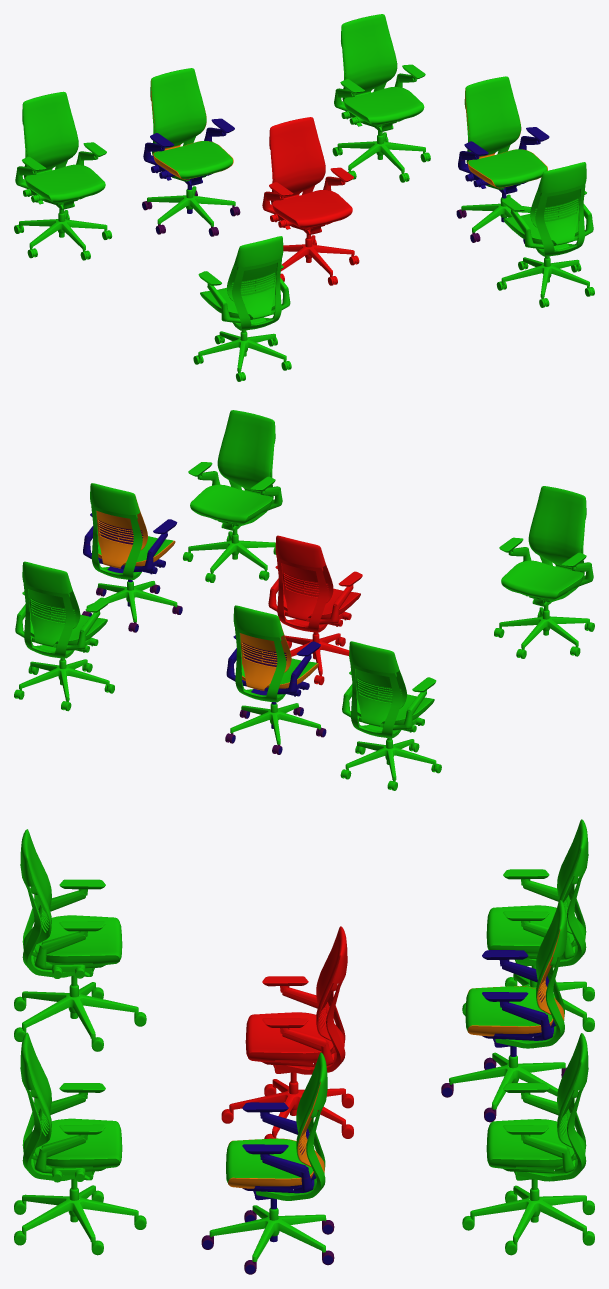
File: steelcase_gestures.glb
3 views of the same model, one above another, from view 1: azimuth 30°, elevation 25°; view 2: azimuth 150°, elevation 25°; view 3: azimuth 270°, elevation 25° (orthographic). The views are drawn at different scales.
Visible parts, largest first — view 1: steelcase_gesture, steelcase_gesture.005, steelcase_gesture.001, steelcase_gesture.004, steelcase_gesture.006, steelcase_gesture.003, steelcase_gesture.002; view 2: steelcase_gesture.003, steelcase_gesture.002, steelcase_gesture.005, steelcase_gesture, steelcase_gesture.001, steelcase_gesture.006, steelcase_gesture.004; view 3: steelcase_gesture.003, steelcase_gesture.002, steelcase_gesture.001, steelcase_gesture.006, steelcase_gesture.005, steelcase_gesture.004, steelcase_gesture.
Boxes of the visible parts, box(x1,y1,x2,y2) form: steelcase_gesture: box(14, 91, 112, 260); steelcase_gesture.005: box(142, 68, 240, 236); steelcase_gesture.001: box(332, 14, 430, 182); steelcase_gesture.004: box(262, 117, 359, 285); steelcase_gesture.006: box(456, 76, 549, 243); steelcase_gesture.003: box(193, 236, 291, 381); steelcase_gesture.002: box(496, 162, 594, 307); steelcase_gesture.003: box(494, 486, 594, 658); steelcase_gesture.002: box(183, 410, 282, 582); steelcase_gesture.005: box(225, 605, 326, 754); steelcase_gesture: box(340, 641, 441, 790); steelcase_gesture.001: box(14, 561, 114, 711); steelcase_gesture.006: box(82, 483, 182, 632); steelcase_gesture.004: box(268, 535, 362, 685); steelcase_gesture.003: box(14, 829, 146, 1051); steelcase_gesture.002: box(14, 1032, 146, 1255); steelcase_gesture.001: box(462, 1033, 594, 1255); steelcase_gesture.006: box(201, 1052, 334, 1274); steelcase_gesture.005: box(441, 900, 567, 1122); steelcase_gesture.004: box(221, 926, 353, 1138); steelcase_gesture: box(462, 819, 594, 1031).
Bounding box in the file's own units: 3.59 × 1.07 × 3.07.
